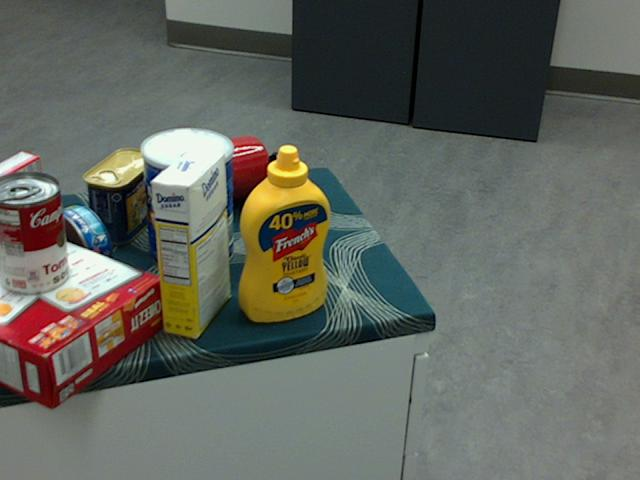cracker_box: (0, 217, 164, 408)
gelatin_box: (0, 151, 44, 235)
large_marker: (268, 151, 284, 245)
master_chef_can: (138, 127, 232, 274)
mug: (183, 134, 270, 210)
mustard_bottle: (238, 143, 331, 321)
potted_meat_can: (82, 146, 156, 245)
sugar_box: (149, 147, 231, 337)
tomato_soup_can: (0, 171, 68, 294)
tuna_fish_can: (39, 204, 111, 285)
